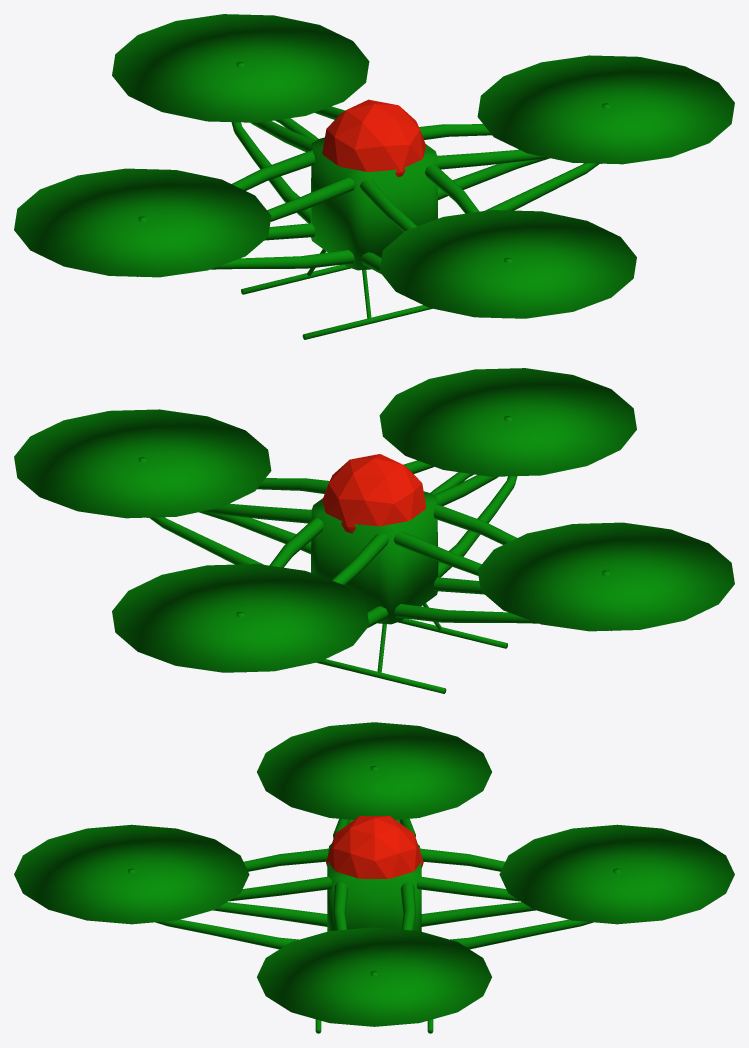
Rendered from RedWasp_green.dae.
The picture shows the model from 3 angles, top to bottom: view 1: azimuth 30°, elevation 25°; view 2: azimuth 150°, elevation 25°; view 3: azimuth 270°, elevation 25°; orthographic projection. The views are drawn at different scales.
Parts seen in each view (by area): view 1: SM_Quadrotor, Icosphere; view 2: SM_Quadrotor, Icosphere; view 3: SM_Quadrotor, Icosphere.
Boxes of the visible parts, x1,y1,x2,y2 form: SM_Quadrotor: (14,14,734,339); Icosphere: (322,99,425,177); SM_Quadrotor: (14,368,734,693); Icosphere: (322,454,426,533); SM_Quadrotor: (14,722,734,1033); Icosphere: (326,816,423,878).
Size of the model in its own units: 0.5097 by 0.5097 by 0.1333.
